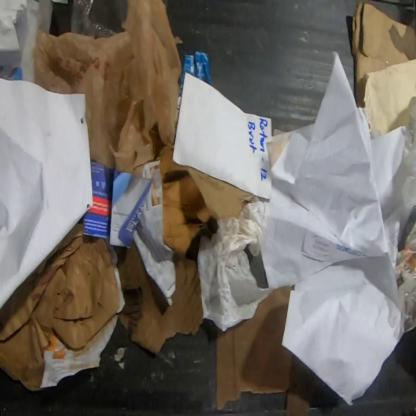cardboard: (148, 124, 256, 258), (216, 285, 322, 416), (115, 239, 206, 358), (351, 0, 415, 110), (174, 50, 212, 140)
rigid_plastic: (70, 0, 117, 37)
soft_plastic: (31, 0, 183, 174), (196, 200, 274, 333), (401, 99, 416, 211), (398, 269, 415, 334)
